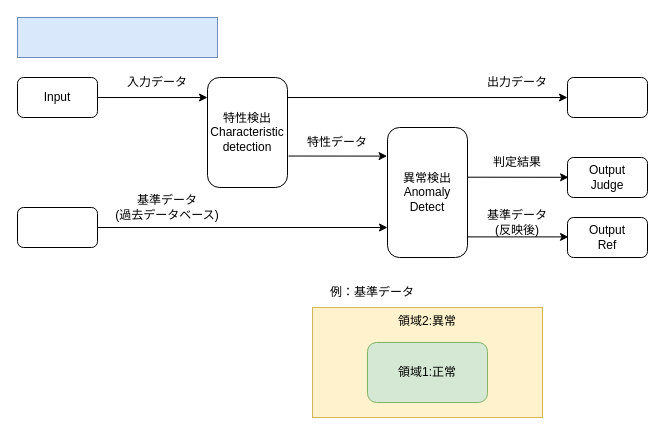
This 665x435 diagram has some shape labels left out. Here are the shapes that lost their labels. From the top down, the centre of each, then its label:
At point 117,37: "差分の検出機構 ～ 工学的なモデル：異常検出～".
At point 607,97: "Output".
At point 57,227: "Input Ref".
